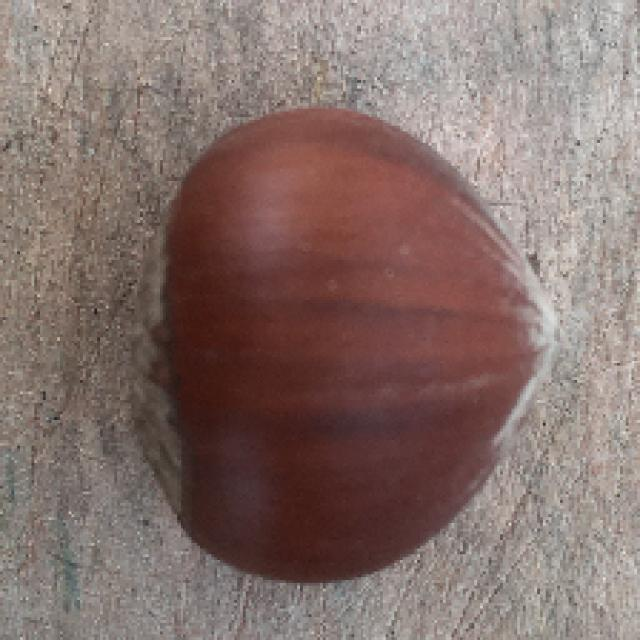qualityHazelnut: (136, 106, 567, 587)
